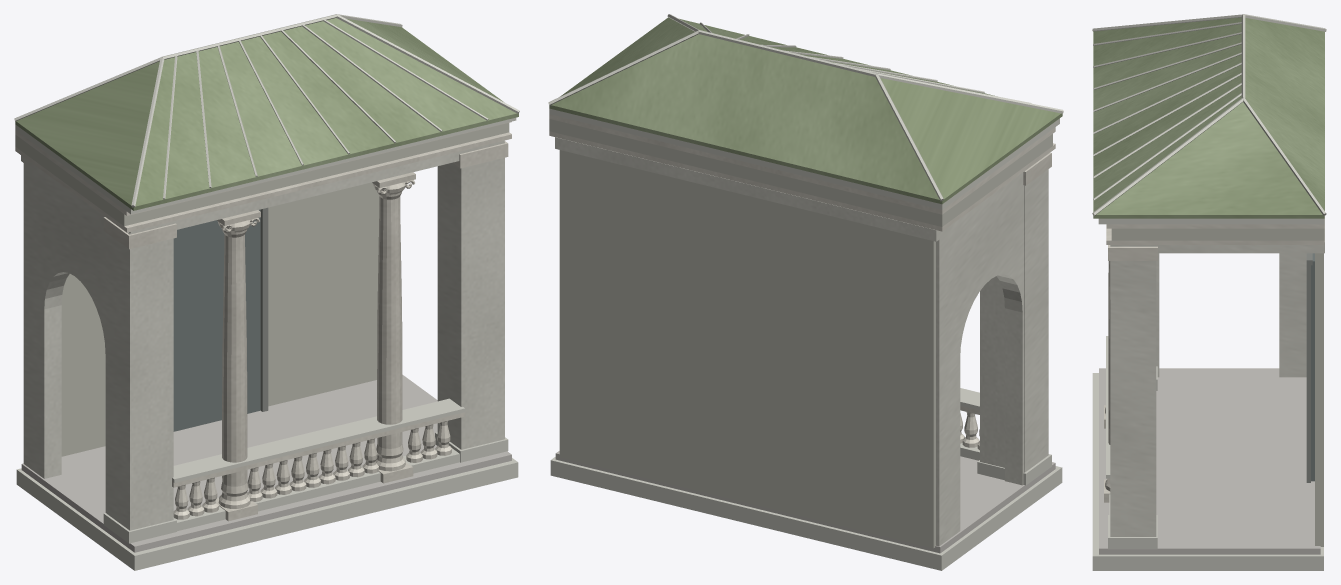
Rendered from xingguo-no1-south-loggia-end-bay-far.glb.
3 views of the same model, side by side, from view 1: azimuth 30°, elevation 25°; view 2: azimuth 150°, elevation 25°; view 3: azimuth 270°, elevation 25° (orthographic). The views are drawn at different scales.
Parts seen in each view (by area): view 1: 兴国宾馆一号楼南立面端部双柱敞廊; view 2: 兴国宾馆一号楼南立面端部双柱敞廊; view 3: 兴国宾馆一号楼南立面端部双柱敞廊.
Boxes of the visible parts, x1=… form: 兴国宾馆一号楼南立面端部双柱敞廊: x1=14, y1=14, x2=519, y2=570; 兴国宾馆一号楼南立面端部双柱敞廊: x1=548, y1=14, x2=1063, y2=570; 兴国宾馆一号楼南立面端部双柱敞廊: x1=1092, y1=14, x2=1326, y2=570.
Bounding box in the file's own units: 4.86 × 5.17 × 2.59.
8 materials, 3 textured.
